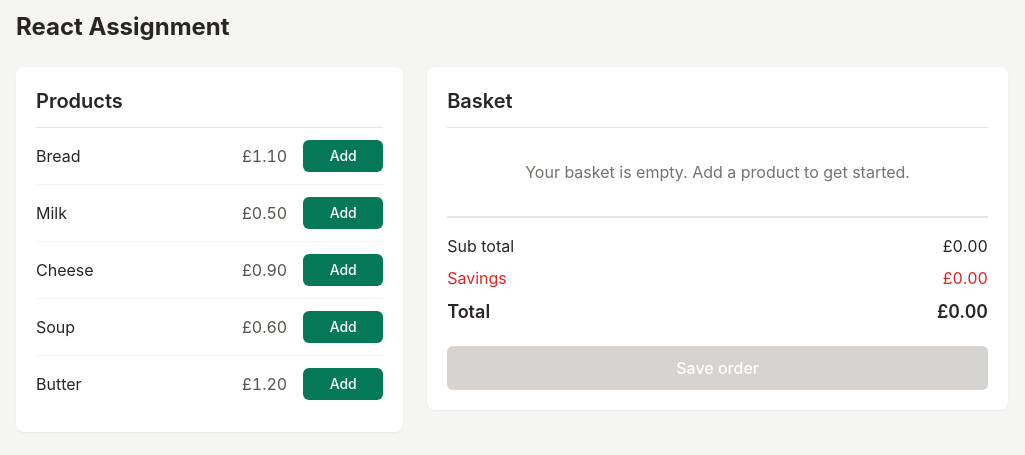
Test: App › increments quantity with the + button
The width and height of the screenshot is (1025, 455).
Step 1. Click the button with aria-label "add bread" → x=343, y=156, box 303,140 -> 383,172
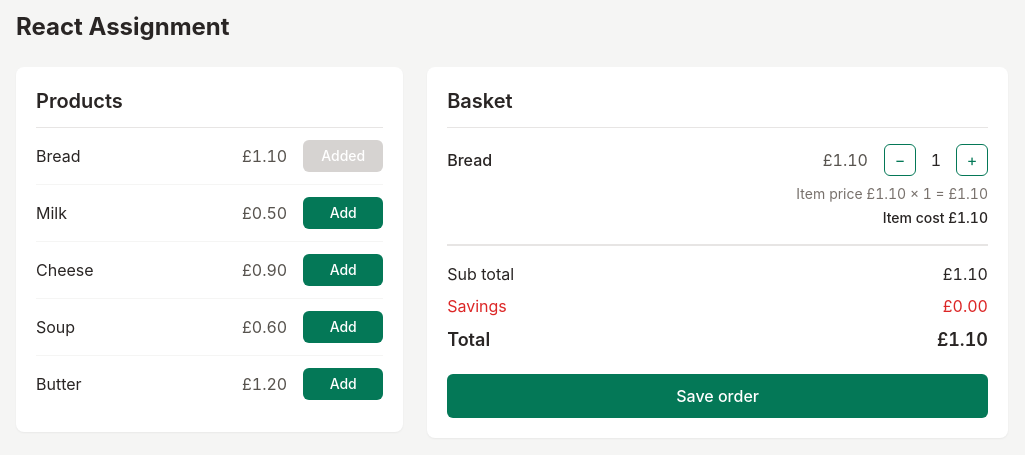
Step 2. Click the button named "add one more bread" → x=972, y=160, box 956,144 -> 988,176
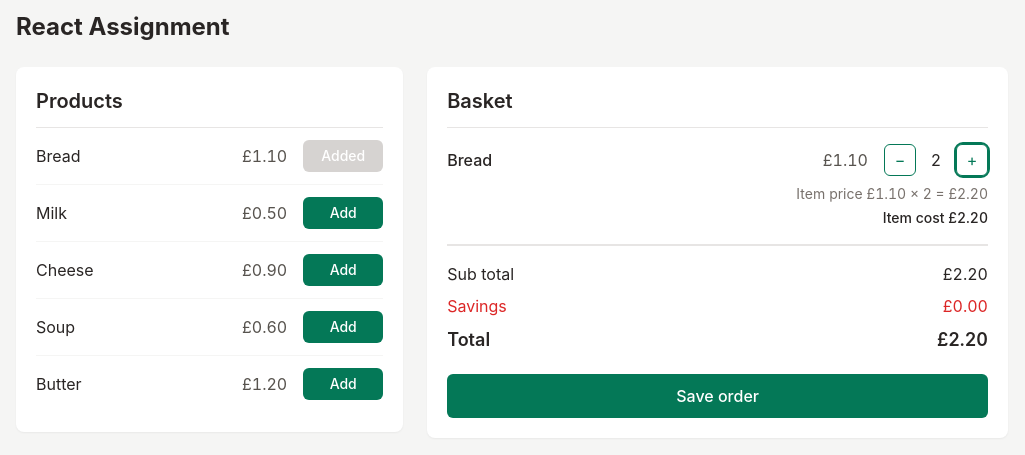
Result: the text with test id "qty-bread" reads "2" at 931,150 -> 941,170
